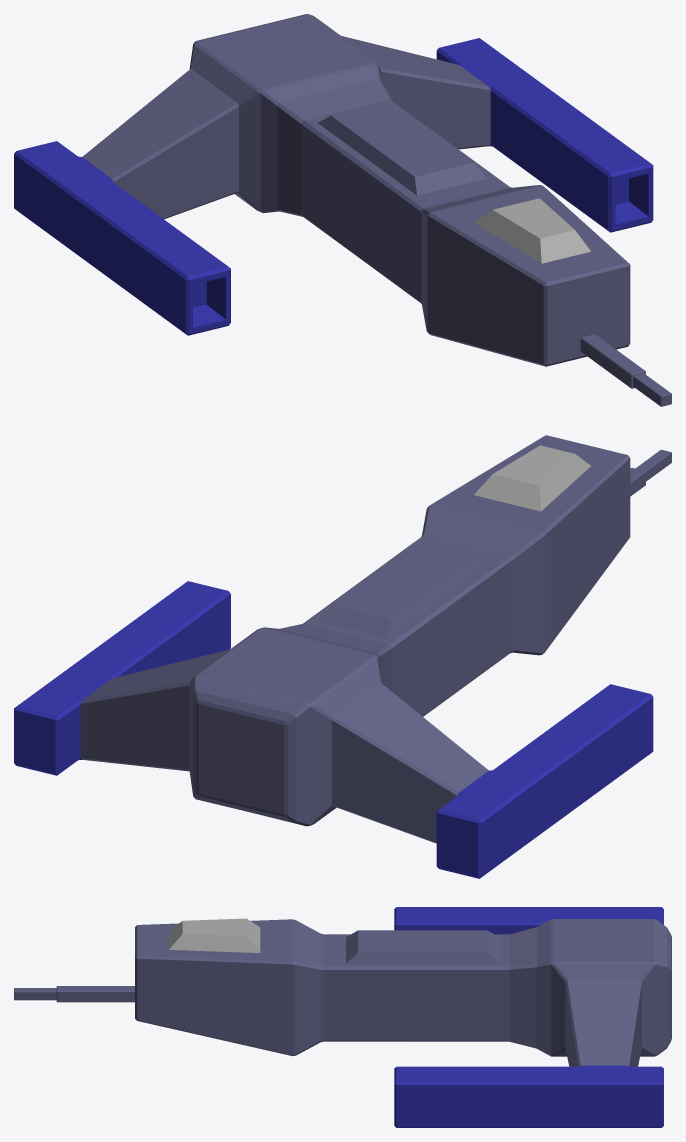
File: cruiser_parts.fbx
The picture shows the model from 3 angles, top to bottom: view 1: azimuth 30°, elevation 25°; view 2: azimuth 150°, elevation 25°; view 3: azimuth 270°, elevation 25°; orthographic projection. The views are drawn at different scales.
Visible parts, largest first — view 1: cruiser_middle_right, cruiser_right, cruiser_left, cruiser_middle_left; view 2: cruiser_middle_right, cruiser_right, cruiser_middle_left, cruiser_left; view 3: cruiser_middle_left, cruiser_left, cruiser_middle_right, cruiser_right.
Part boxes in pixels (x1,y1,x2,y2): cruiser_middle_right: (146, 27, 666, 406); cruiser_right: (14, 105, 230, 335); cruiser_left: (386, 38, 653, 232); cruiser_middle_left: (251, 14, 671, 405); cruiser_middle_right: (241, 445, 671, 826); cruiser_right: (383, 684, 653, 878); cruiser_middle_left: (145, 435, 665, 810); cruiser_left: (14, 581, 230, 775); cruiser_middle_left: (14, 927, 671, 1066); cruiser_left: (394, 1015, 663, 1127); cruiser_middle_right: (14, 918, 671, 989); cruiser_right: (394, 907, 663, 934).
Bounding box in the file's own units: 9.53 × 2.84 × 15.
